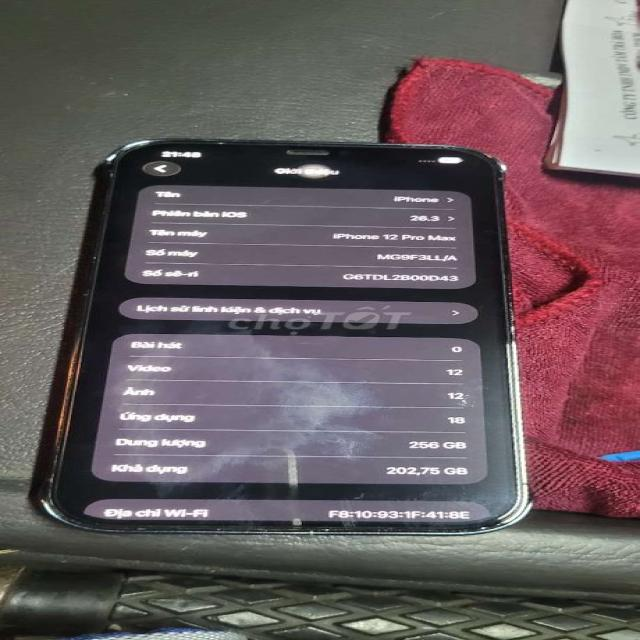gen_12_13: (10, 122, 558, 546)
physical_damage: (218, 403, 364, 537)
scratch: (42, 505, 513, 547)
